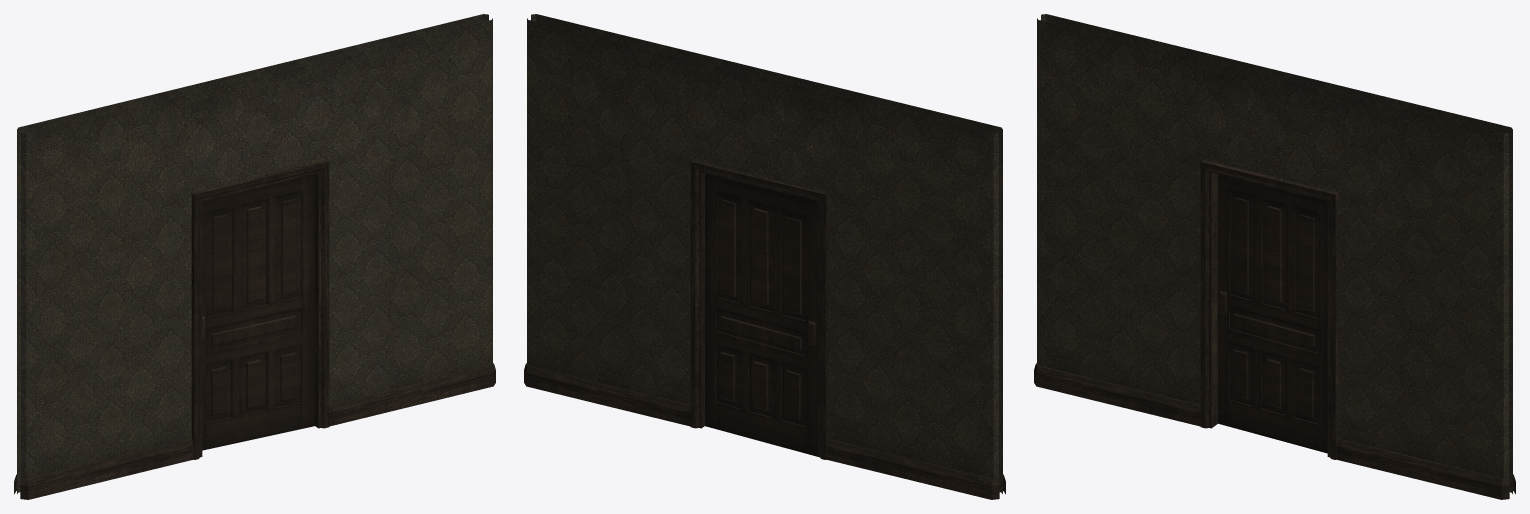
The model's file is doorAnimation.fbx.
3 renders of one model, left to right at view 1: azimuth 30°, elevation 25°; view 2: azimuth 150°, elevation 25°; view 3: azimuth 330°, elevation 25°, orthographic.
Parts seen in each view (by area): view 1: doorway_2.001, door_2.001; view 2: doorway_2.001, door_2.001; view 3: doorway_2.001, door_2.001.
Boxes of the visible parts, box(x1,y1,x2,y2) form: doorway_2.001: box(14, 14, 495, 499); door_2.001: box(202, 174, 314, 450); doorway_2.001: box(524, 14, 1005, 499); door_2.001: box(705, 174, 817, 456); doorway_2.001: box(1034, 14, 1515, 499); door_2.001: box(1218, 174, 1327, 453).
Bounding box in the file's own units: 409 × 300 × 20.
